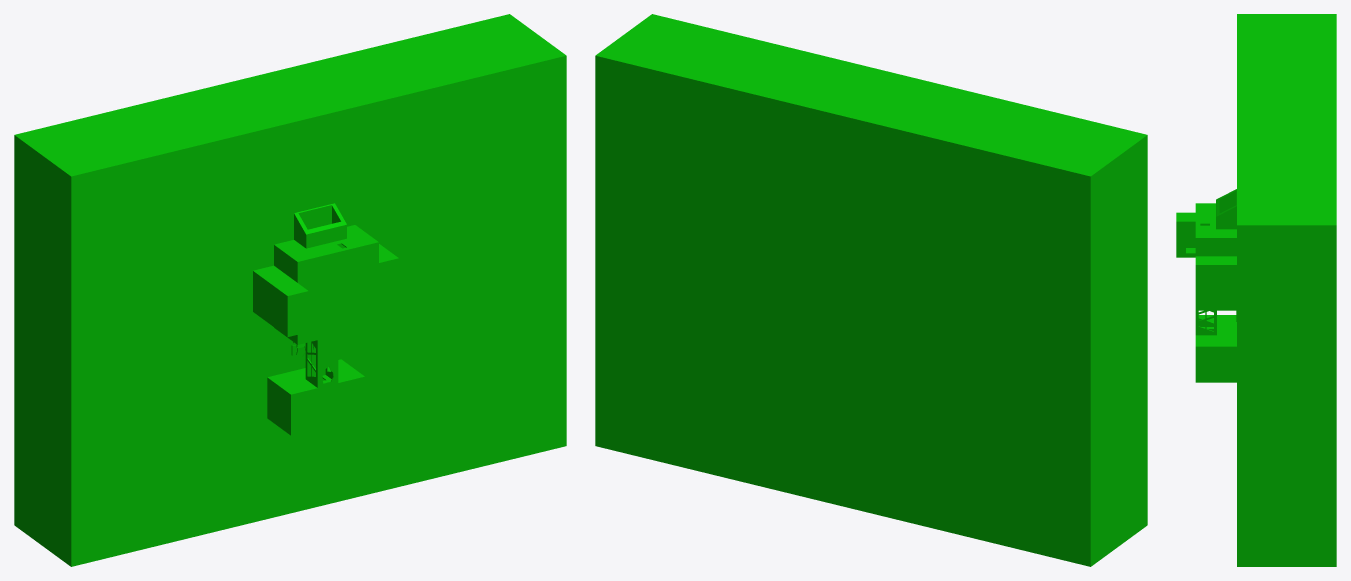
File: debug_0003_col.obj
3 renders of one model, left to right at view 1: azimuth 30°, elevation 25°; view 2: azimuth 150°, elevation 25°; view 3: azimuth 270°, elevation 25°, orthographic. The views are drawn at different scales.
Parts seen in each view (by area): view 1: COLLIDE.073_Cube.112; view 2: COLLIDE.073_Cube.112; view 3: COLLIDE.073_Cube.112.
Part boxes in pixels (x1,y1,x2,y2): COLLIDE.073_Cube.112: (14,14,566,566); COLLIDE.073_Cube.112: (595,14,1147,566); COLLIDE.073_Cube.112: (1176,14,1336,566).
Size of the model in its own units: 2072 by 1560 by 664.
